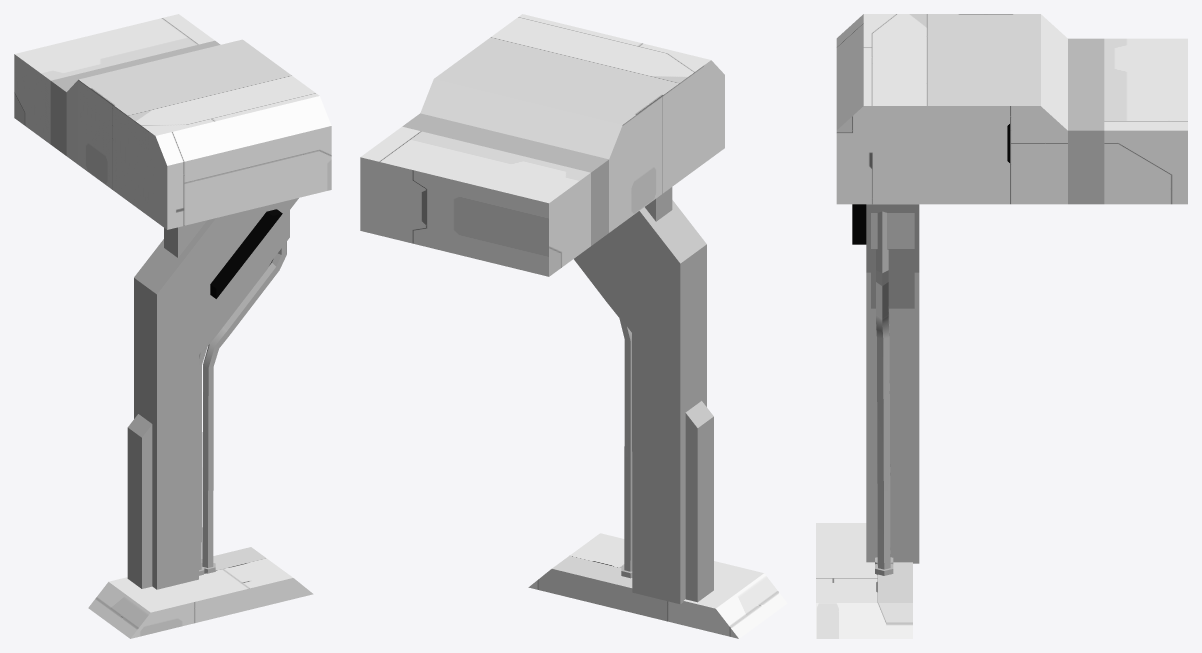
The model's file is SM_BuildingExtra_Cables_1.fbx.
3 views of the same model, side by side, from view 1: azimuth 30°, elevation 25°; view 2: azimuth 150°, elevation 25°; view 3: azimuth 270°, elevation 25° (orthographic). The views are drawn at different scales.
Visible parts, largest first — view 1: SM_BuildingExtra_Cables_1; view 2: SM_BuildingExtra_Cables_1; view 3: SM_BuildingExtra_Cables_1.
Part boxes in pixels (<box>): SM_BuildingExtra_Cables_1: <box>14,14,331,638</box>; SM_BuildingExtra_Cables_1: <box>360,14,787,638</box>; SM_BuildingExtra_Cables_1: <box>816,14,1187,638</box>.
Bounding box in the file's own units: 151 × 328 × 202.
